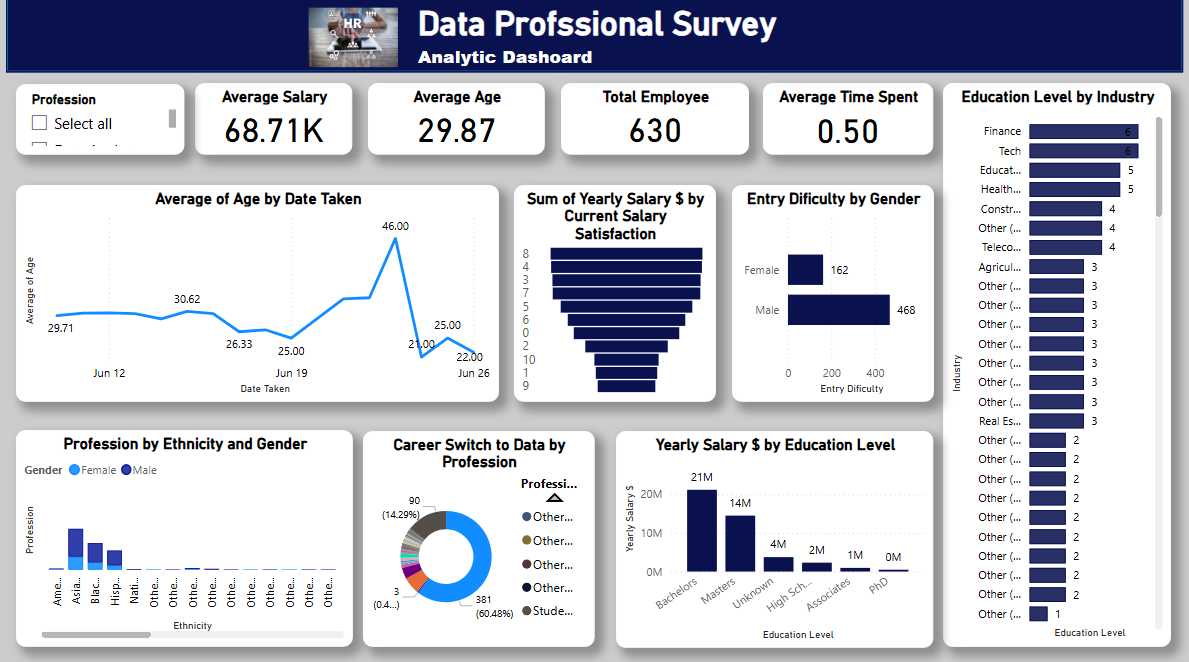

The page's visual inventory and layout, read from the dashboard file:
{"tool":"powerbi","page":{"name":"Dashboard","canvas":[1280,720],"ordinal":0},"visuals":[{"type":"shape","box":[6.5,4.4,1264.9,80.5],"z":0},{"type":"card","title":"Average Salary","fields":{"Values":["#Measure.Average Salary"]},"box":[212.9,95.7,169.3,77],"z":1000},{"type":"card","title":"Average Age","fields":{"Values":["#Measure.Average Age"]},"box":[398.6,95.7,190.2,77],"z":2000},{"type":"card","title":"Total Employee","fields":{"Values":["#Measure.Total Employee"]},"box":[605.3,95.7,202.3,77],"z":3000},{"type":"card","title":"Average Time Spent","fields":{"Values":["#Measure.Average Time Spent"]},"box":[824,95.7,182.5,77],"z":4000},{"type":"slicer","fields":{"Values":["Data Professional Survey.Profession"]},"box":[15,96.7,180.5,76.3],"z":5000},{"type":"barChart","title":"Education Level by Industry","fields":{"Category":["Data Professional Survey.Industry"],"Y":["Count(Data Professional Survey.Education Level)"]},"box":[1019.4,95.7,245.2,605.9],"z":6000},{"type":"columnChart","title":"Profession by Ethnicity and Gender","fields":{"Category":["Data Professional Survey.Ethnicity"],"Series":["Data Professional Survey.Gender"],"Y":["CountNonNull(Data Professional Survey.Profession)"]},"box":[15,468.5,361.8,233.1],"z":7000},{"type":"lineChart","fields":{"Y":["Avg(Data Professional Survey.Age)"],"Category":["Data Professional Survey.Date Taken"]},"box":[15,205.6,519,233.1],"z":8000},{"type":"funnel","fields":{"Y":["Sum(Data Professional Survey.Yearly Salary $)"],"Category":["Data Professional Survey.Current Salary Satisfaction"]},"box":[552.6,205.6,216.6,233.1],"z":9000},{"type":"barChart","title":"Entry Dificulty by Gender","fields":{"Category":["Data Professional Survey.Gender"],"Y":["CountNonNull(Data Professional Survey.Entry Dificulty)"]},"box":[787.8,205.6,216.6,233.1],"z":10000},{"type":"donutChart","title":"Career Switch to Data by Profession","fields":{"Category":["Data Professional Survey.Profession"],"Y":["CountNonNull(Data Professional Survey.Career Switch to Data)"]},"box":[395.7,469.6,248.5,232],"z":11000},{"type":"clusteredColumnChart","fields":{"Category":["Data Professional Survey.Education Level"],"Y":["Sum(Data Professional Survey.Yearly Salary $)"]},"box":[663.2,469.6,340.9,233.1],"z":12000},{"type":"shape","title":"Analytic Dashoard","box":[449.2,52.2,390.5,28.3],"z":13000},{"type":"shape","title":"Data Professional Survey ","box":[448.7,9.9,447.6,46.2],"z":14000},{"type":"image","box":[239.6,9.7,279.4,74.1],"z":15000}]}

Visuals, with their boxes in screenshot pixels (x1, y1, x2, y2), scaled from the page's 1280x720 canvas onto the 1189x662 screenshot:
shape: 6 4 1181 78
"Average Salary" card: 198 88 355 159
"Average Age" card: 370 88 547 159
"Total Employee" card: 562 88 750 159
"Average Time Spent" card: 765 88 935 159
slicer - Data Professional Survey.Profession: 14 89 182 159
"Education Level by Industry" barChart: 947 88 1175 645
"Profession by Ethnicity and Gender" columnChart: 14 431 350 645
lineChart - Avg(Data Professional Survey.Age) x Data Professional Survey.Date Taken: 14 189 496 403
funnel - Sum(Data Professional Survey.Yearly Salary $) x Data Professional Survey.Current Salary Satisfaction: 513 189 715 403
"Entry Dificulty by Gender" barChart: 732 189 933 403
"Career Switch to Data by Profession" donutChart: 368 432 598 645
clusteredColumnChart - Data Professional Survey.Education Level x Sum(Data Professional Survey.Yearly Salary $): 616 432 933 646
"Analytic Dashoard" shape: 417 48 780 74
"Data Professional Survey " shape: 417 9 833 52
image: 223 9 482 77
